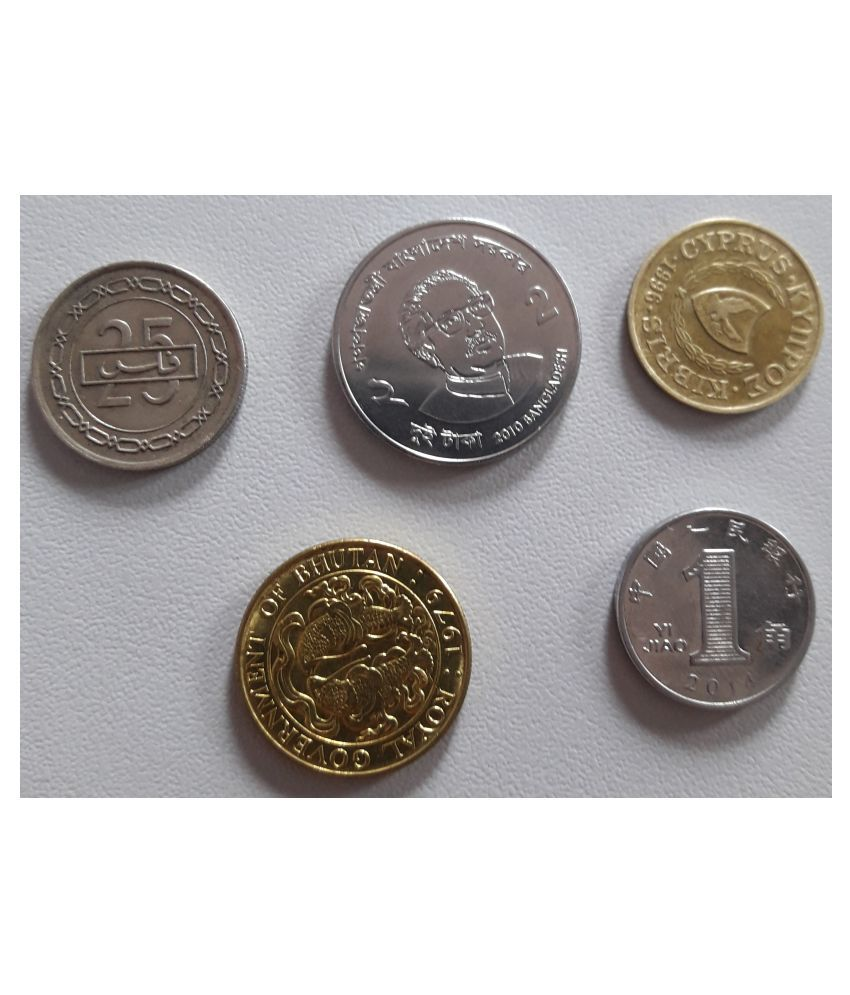5 taka coin: (334, 215, 585, 471)
